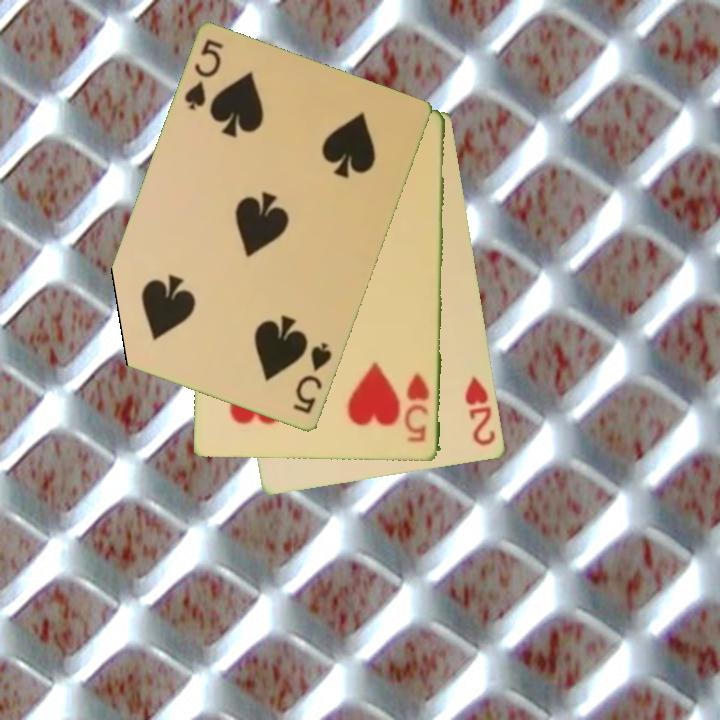2h: (462, 372, 499, 449)
5h: (403, 370, 433, 446)
5s: (289, 339, 336, 418), (181, 36, 227, 114)
